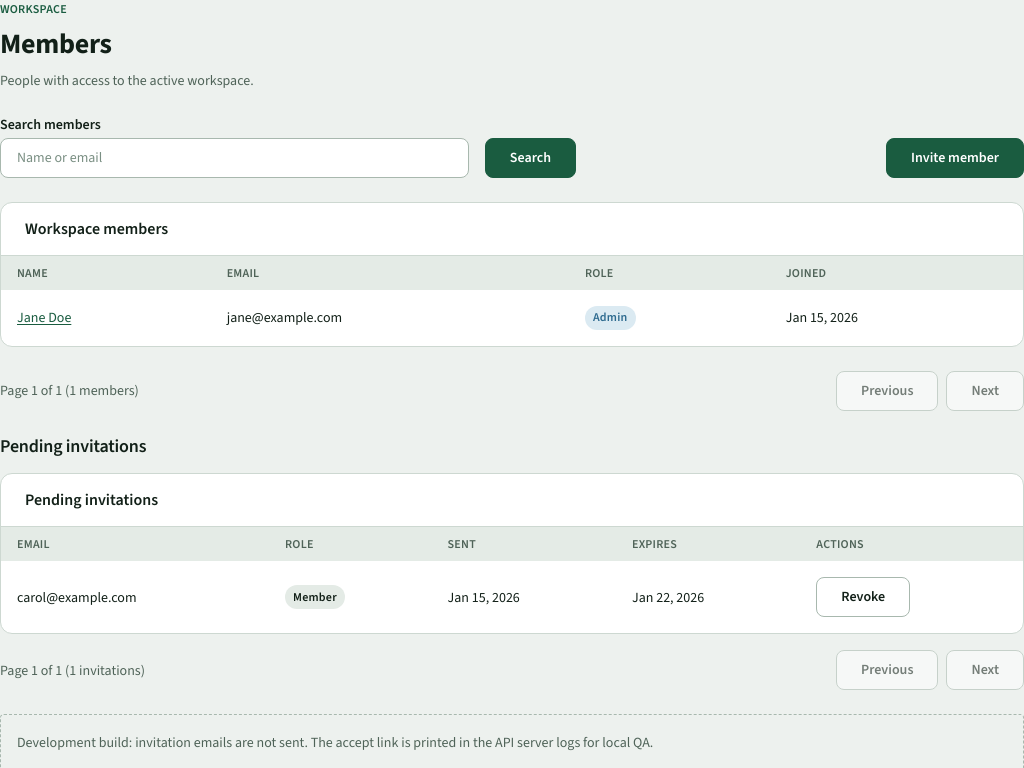
Test case: MembersPage › offers an invite control and opens the invite dialog when permitted
What coordinates should you click on to do the following:
click the button "Invite member"
I would click on:
 (955, 158)
Its box is left=886, top=138, right=1023, bottom=178.
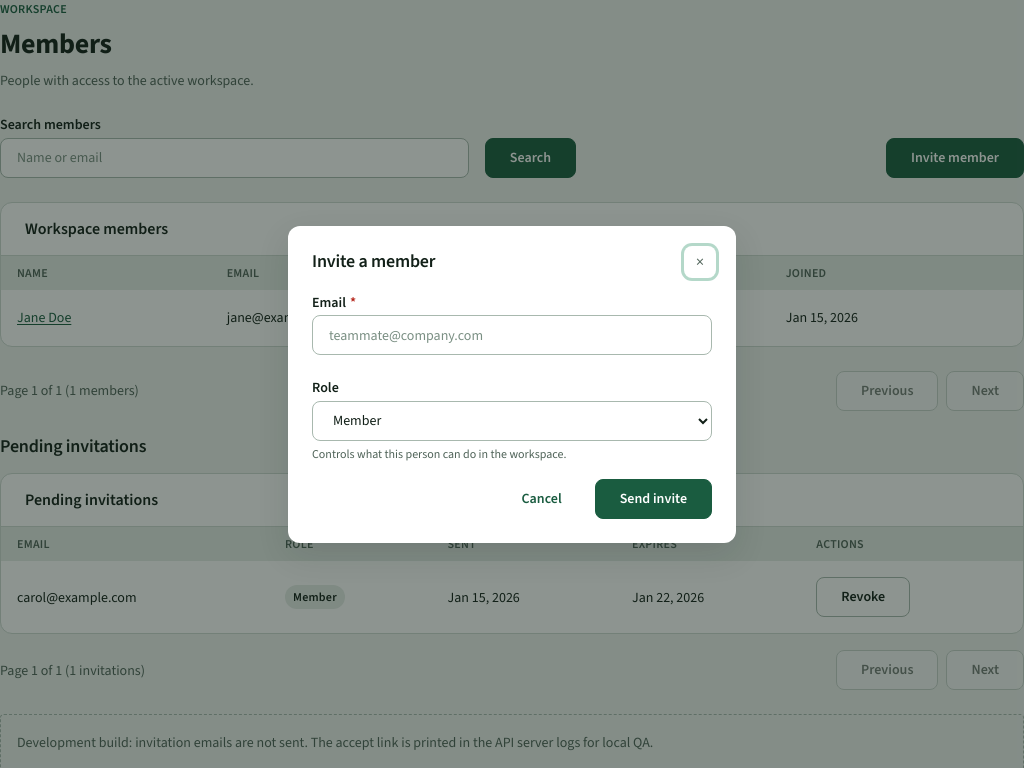
Expected: the dialog "Invite a member" is shown, left=288, top=226, right=736, bottom=542
